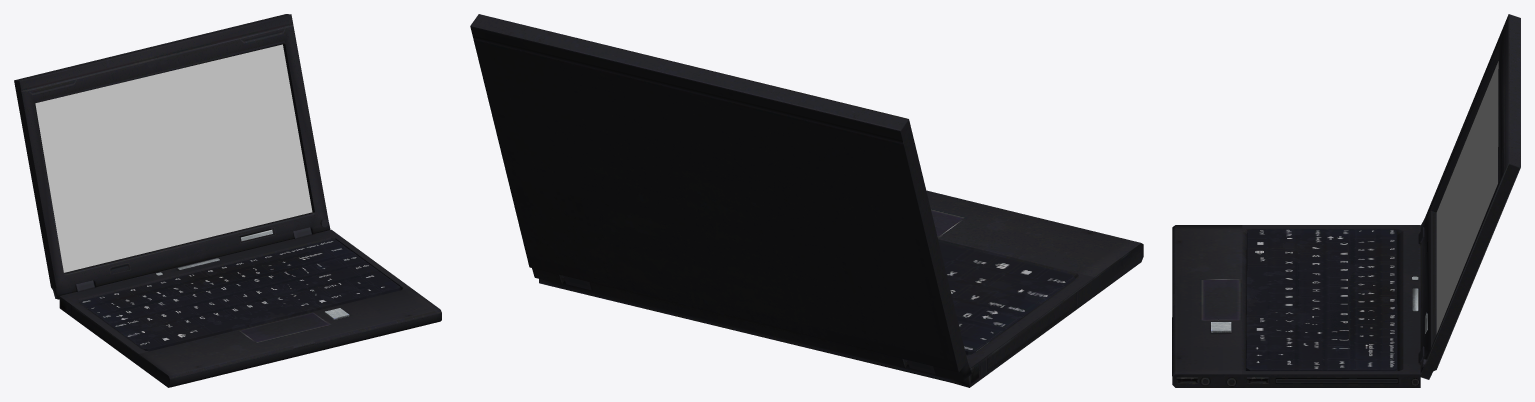
File: computer_laptop.dae
The picture shows the model from 3 angles, left to right: view 1: azimuth 30°, elevation 25°; view 2: azimuth 150°, elevation 25°; view 3: azimuth 270°, elevation 25°; orthographic projection. The views are drawn at different scales.
Parts seen in each view (by area): view 1: computer_laptop, computer_laptop_001; view 2: computer_laptop; view 3: computer_laptop, computer_laptop_001.
Boxes of the visible parts, x1,y1,x2,y2 form: computer_laptop: [14, 14, 441, 387]; computer_laptop_001: [35, 44, 312, 272]; computer_laptop: [470, 14, 1143, 387]; computer_laptop: [1172, 14, 1520, 387]; computer_laptop_001: [1436, 61, 1498, 333].
Bounding box in the file's own units: 35.14 × 24.86 × 34.55.
